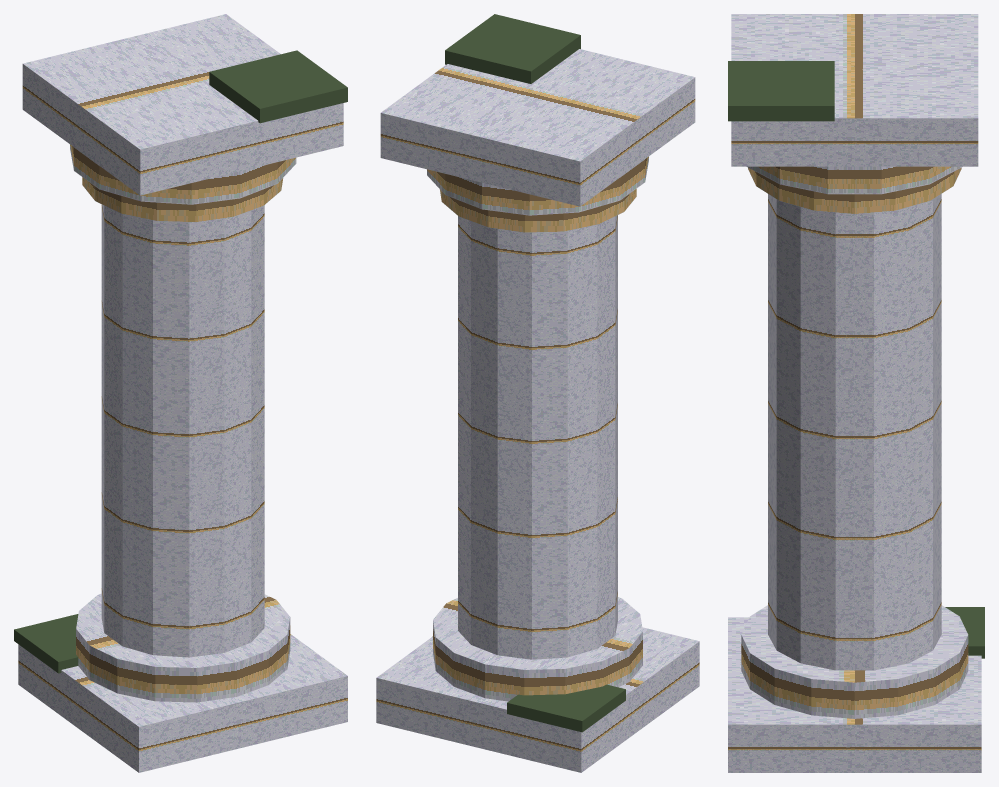
File: columna.glb
3 views of the same model, side by side, from view 1: azimuth 30°, elevation 25°; view 2: azimuth 150°, elevation 25°; view 3: azimuth 270°, elevation 25° (orthographic). The views are drawn at different scales.
Visible parts, largest first — view 1: Cylinder.001, Cube.001, Cube, Cylinder, Cube.002, Cylinder.003, Cylinder.002, Cube.003; view 2: Cylinder.001, Cube.001, Cube, Cylinder, Cube.002, Cylinder.003, Cube.003, Cylinder.002; view 3: Cylinder.001, Cube.001, Cube, Cylinder, Cube.002, Cylinder.003, Cylinder.002, Cube.003.
Part boxes in pixels (box(x1,y1,x2,y2)): Cylinder.001: box(101, 204, 264, 657); Cube.001: box(22, 14, 343, 195); Cube: box(18, 634, 347, 772); Cylinder: box(76, 593, 290, 702); Cube.002: box(209, 50, 347, 123); Cylinder.003: box(70, 144, 296, 204); Cylinder.002: box(82, 177, 283, 222); Cube.003: box(14, 614, 78, 673); Cylinder.001: box(458, 215, 617, 659); Cube.001: box(380, 49, 695, 206); Cube: box(376, 627, 699, 772); Cylinder: box(433, 597, 642, 701); Cube.002: box(445, 14, 580, 83); Cylinder.003: box(427, 156, 648, 215); Cube.003: box(507, 684, 625, 732); Cylinder.002: box(439, 189, 636, 232); Cylinder.001: box(768, 194, 941, 670); Cube.001: box(731, 14, 978, 166); Cube: box(728, 617, 981, 772); Cylinder: box(741, 605, 968, 718); Cube.002: box(728, 61, 834, 121); Cylinder.003: box(747, 166, 962, 194); Cylinder.002: box(748, 168, 961, 213); Cube.003: box(945, 607, 984, 658).
Size of the model in its own units: 0.77 by 2.21 by 0.77.
2 materials, 1 textured.
